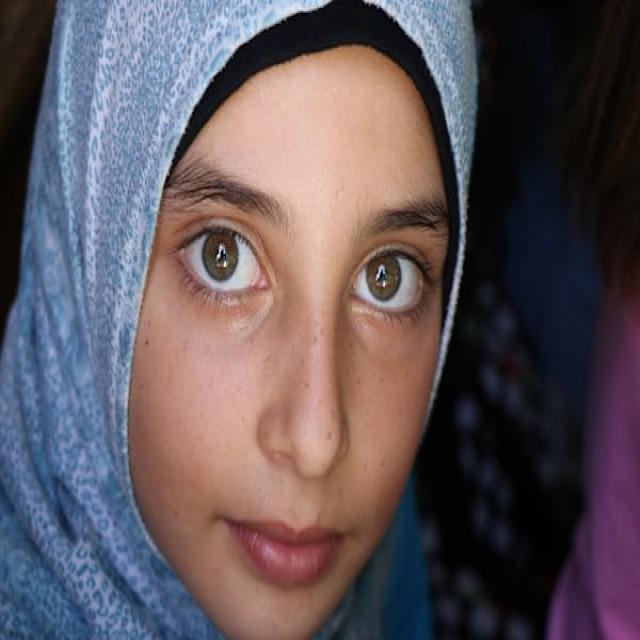no_mask: (133, 22, 474, 640)
